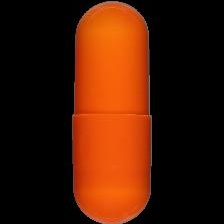54868-5575: (0, 0, 224, 224)
